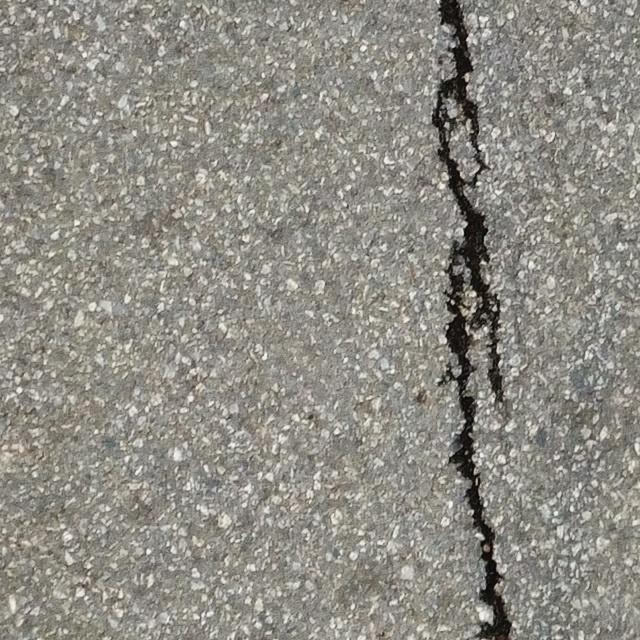LongitudinalCrack: (429, 1, 517, 640)
